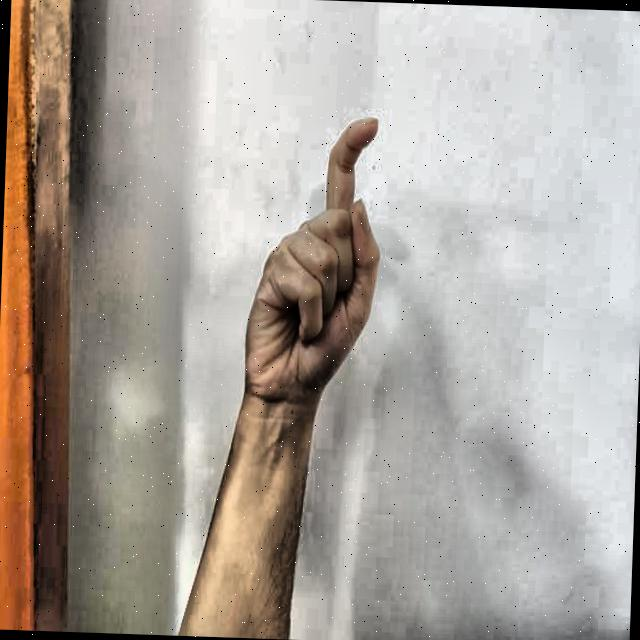E: (222, 100, 400, 416)
